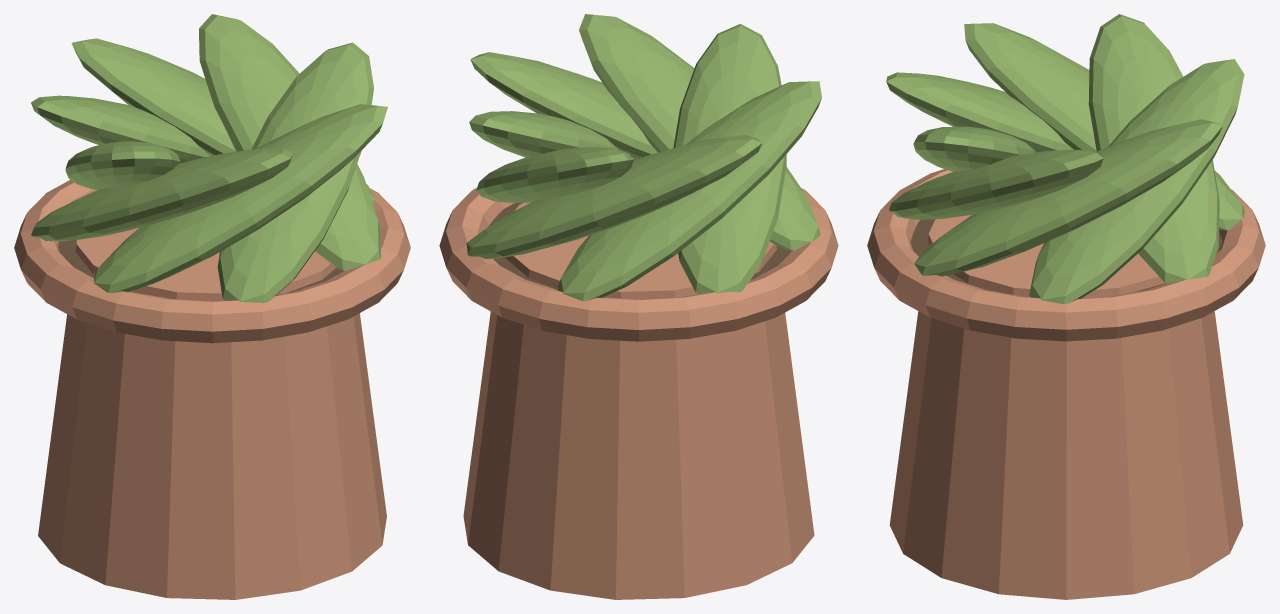
The model's file is GardenPot.fbx.
The picture shows the model from 3 angles, left to right: view 1: azimuth 30°, elevation 25°; view 2: azimuth 150°, elevation 25°; view 3: azimuth 270°, elevation 25°; orthographic projection.
Parts seen in each view (by area): view 1: Clay pot, Rim, Broad leaf.005, Broad leaf.006, Broad leaf, Broad leaf.004, Broad leaf.001, Broad leaf.002, Broad leaf.003, Soil; view 2: Clay pot, Rim, Broad leaf.003, Broad leaf.004, Broad leaf.002, Broad leaf.005, Broad leaf.006, Broad leaf.001, Broad leaf, Soil; view 3: Clay pot, Rim, Broad leaf.001, Broad leaf, Broad leaf.002, Broad leaf.003, Broad leaf.006, Broad leaf.004, Broad leaf.005, Soil.
Part boxes in pixels (x1,y1,x2,y2): Clay pot: (38, 227, 386, 599); Rim: (14, 179, 410, 343); Broad leaf.005: (94, 104, 387, 292); Broad leaf.006: (217, 42, 373, 303); Broad leaf: (199, 14, 381, 270); Broad leaf.004: (31, 148, 293, 241); Broad leaf.001: (71, 38, 375, 203); Broad leaf.002: (31, 95, 210, 163); Broad leaf.003: (65, 141, 180, 190); Soil: (58, 240, 344, 294); Clay pot: (463, 202, 814, 599); Rim: (439, 188, 838, 341); Broad leaf.003: (557, 81, 821, 301); Broad leaf.004: (673, 24, 786, 293); Broad leaf.002: (466, 134, 762, 258); Broad leaf.005: (579, 14, 820, 250); Broad leaf.006: (470, 52, 657, 159); Broad leaf.001: (476, 147, 633, 202); Broad leaf: (469, 111, 635, 159); Soil: (488, 202, 792, 289); Clay pot: (889, 215, 1243, 599); Rim: (867, 169, 1265, 341); Broad leaf.001: (1029, 59, 1244, 304); Broad leaf: (914, 119, 1222, 276); Broad leaf.002: (1088, 14, 1219, 283); Broad leaf.003: (964, 23, 1244, 230); Broad leaf.006: (889, 150, 1103, 219); Broad leaf.004: (886, 72, 1072, 152); Broad leaf.005: (913, 126, 1035, 171); Soil: (910, 219, 1222, 292).
Bounding box in the file's own units: 124 × 151 × 124.
